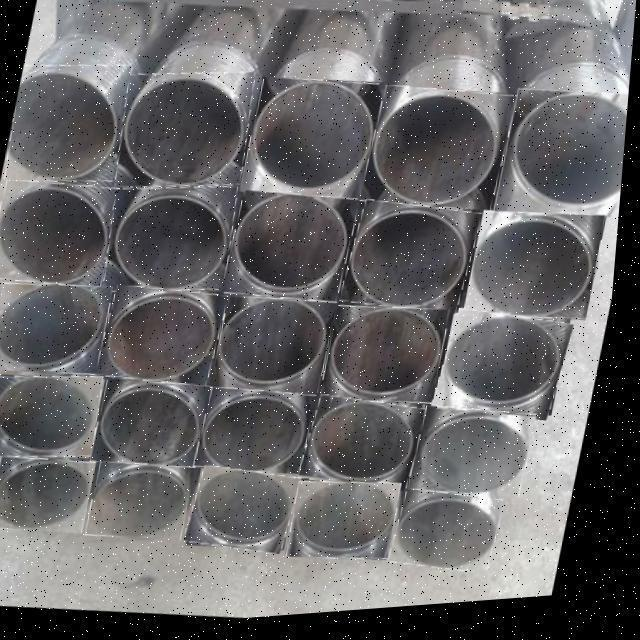pipe: (363, 91, 518, 218), (243, 81, 385, 204), (498, 96, 631, 227), (344, 206, 486, 321), (439, 315, 580, 429), (226, 194, 363, 307), (118, 77, 256, 189), (469, 219, 610, 328), (6, 65, 132, 181), (0, 179, 126, 289), (108, 190, 242, 293), (101, 287, 233, 389), (306, 400, 435, 498), (327, 312, 455, 409), (217, 299, 342, 398), (416, 413, 544, 505), (0, 284, 118, 376), (202, 391, 323, 479), (98, 382, 216, 471), (193, 469, 309, 559), (398, 496, 513, 580), (296, 487, 409, 565), (0, 377, 110, 457), (93, 463, 203, 543), (0, 457, 104, 535)
